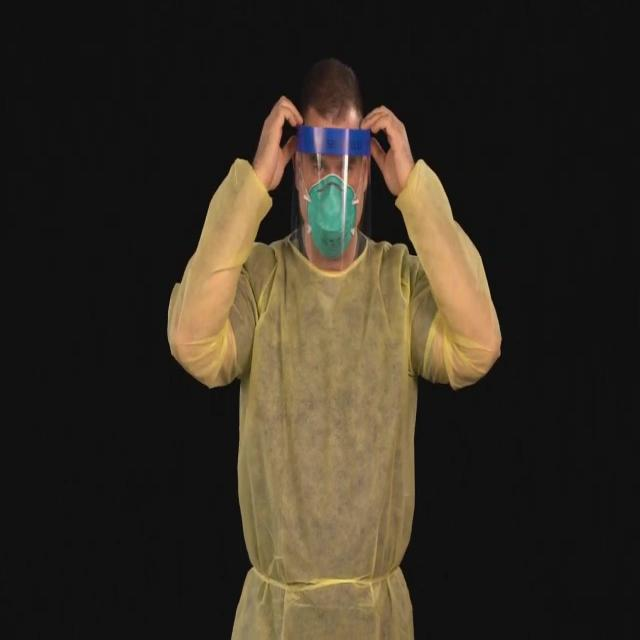Face_Shield: (291, 118, 373, 267)
